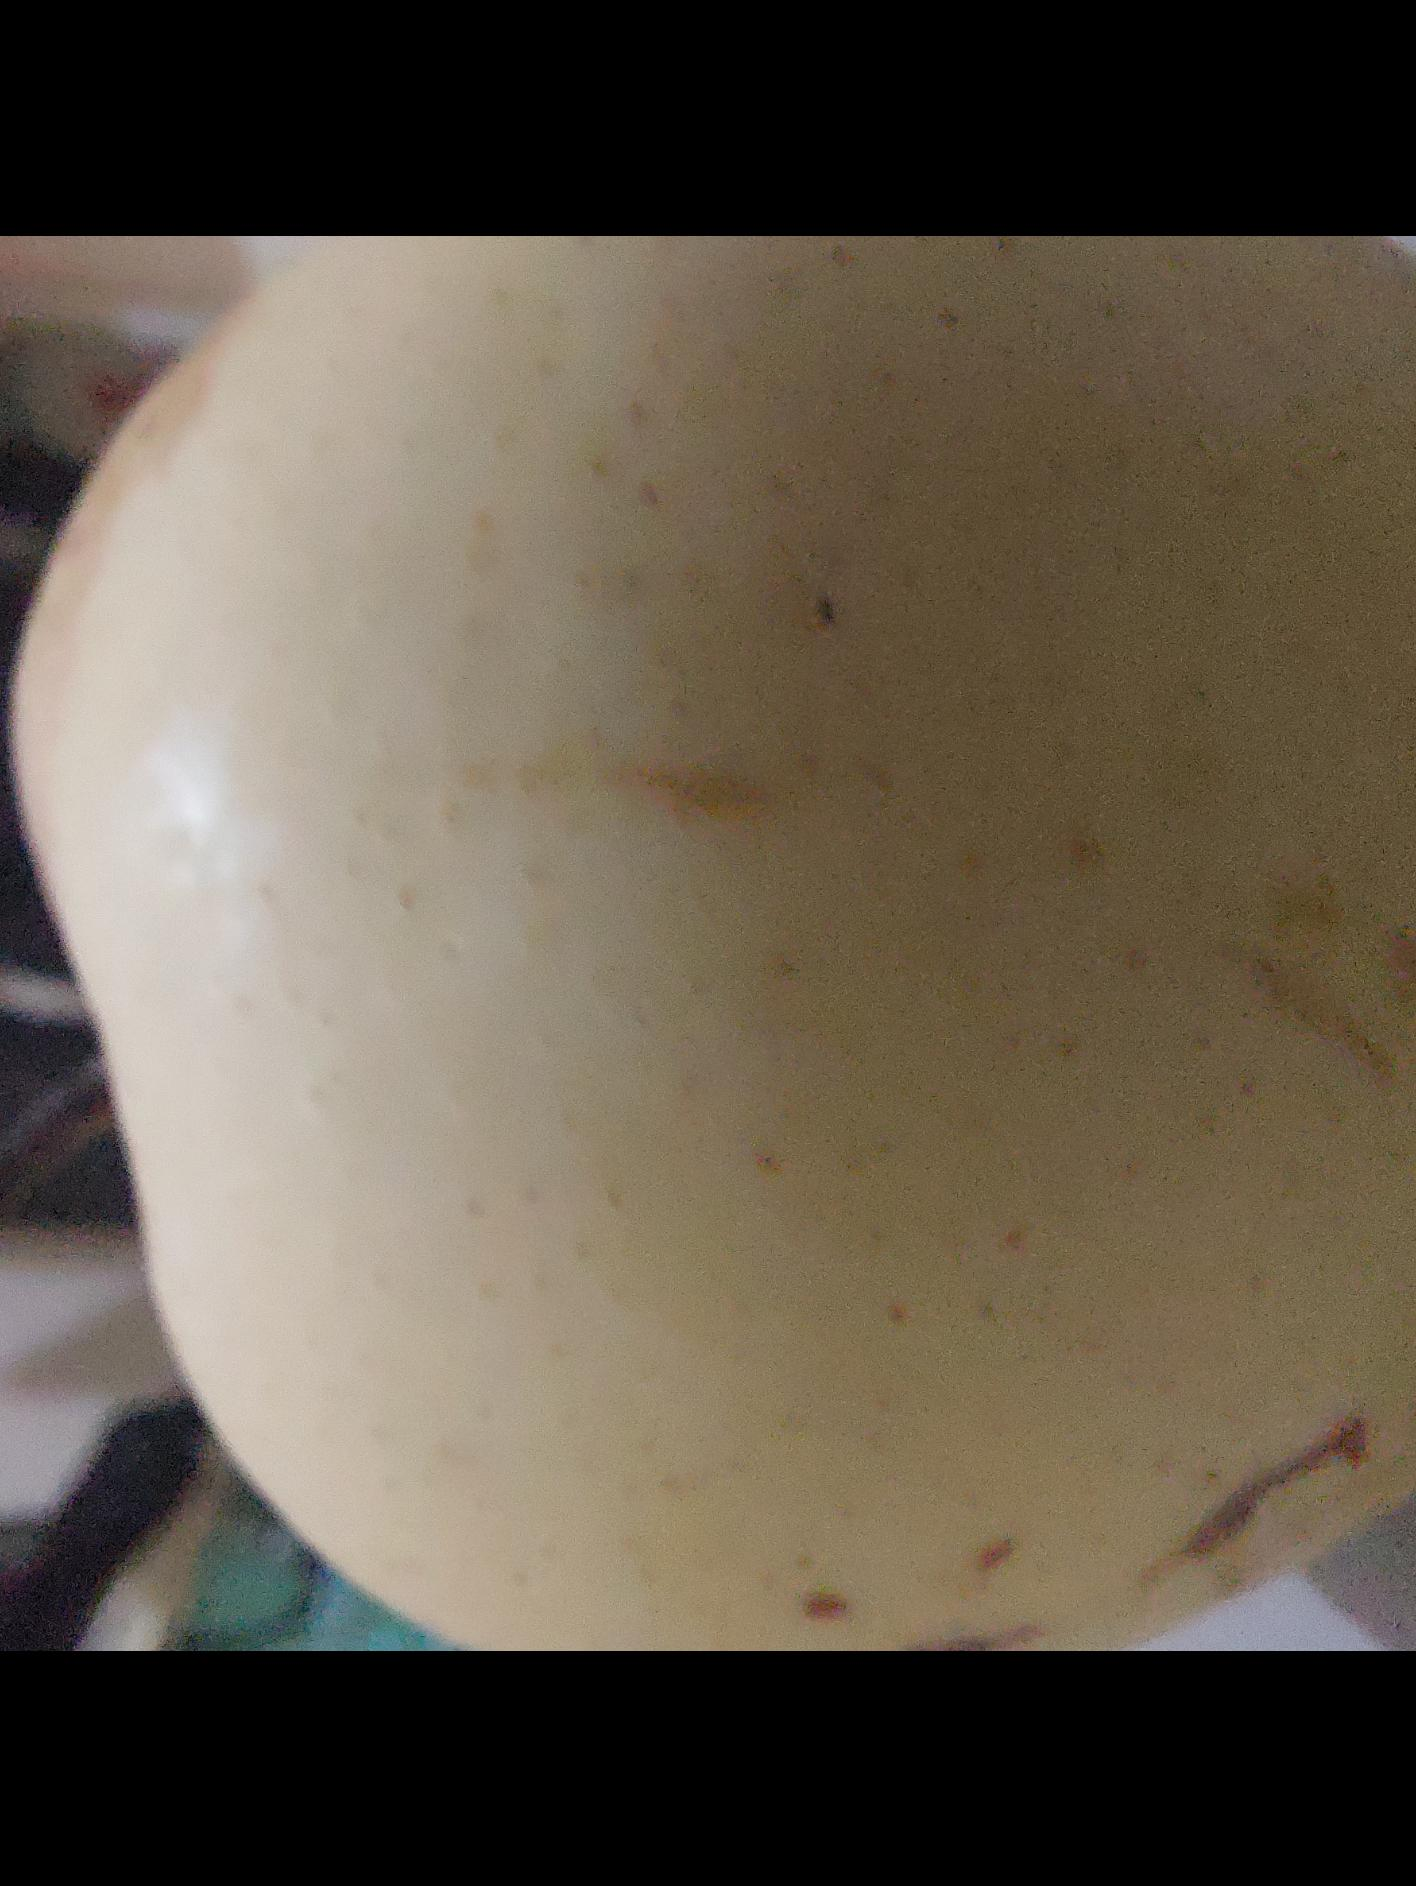Bad Pear: (4, 235, 1416, 1651)
